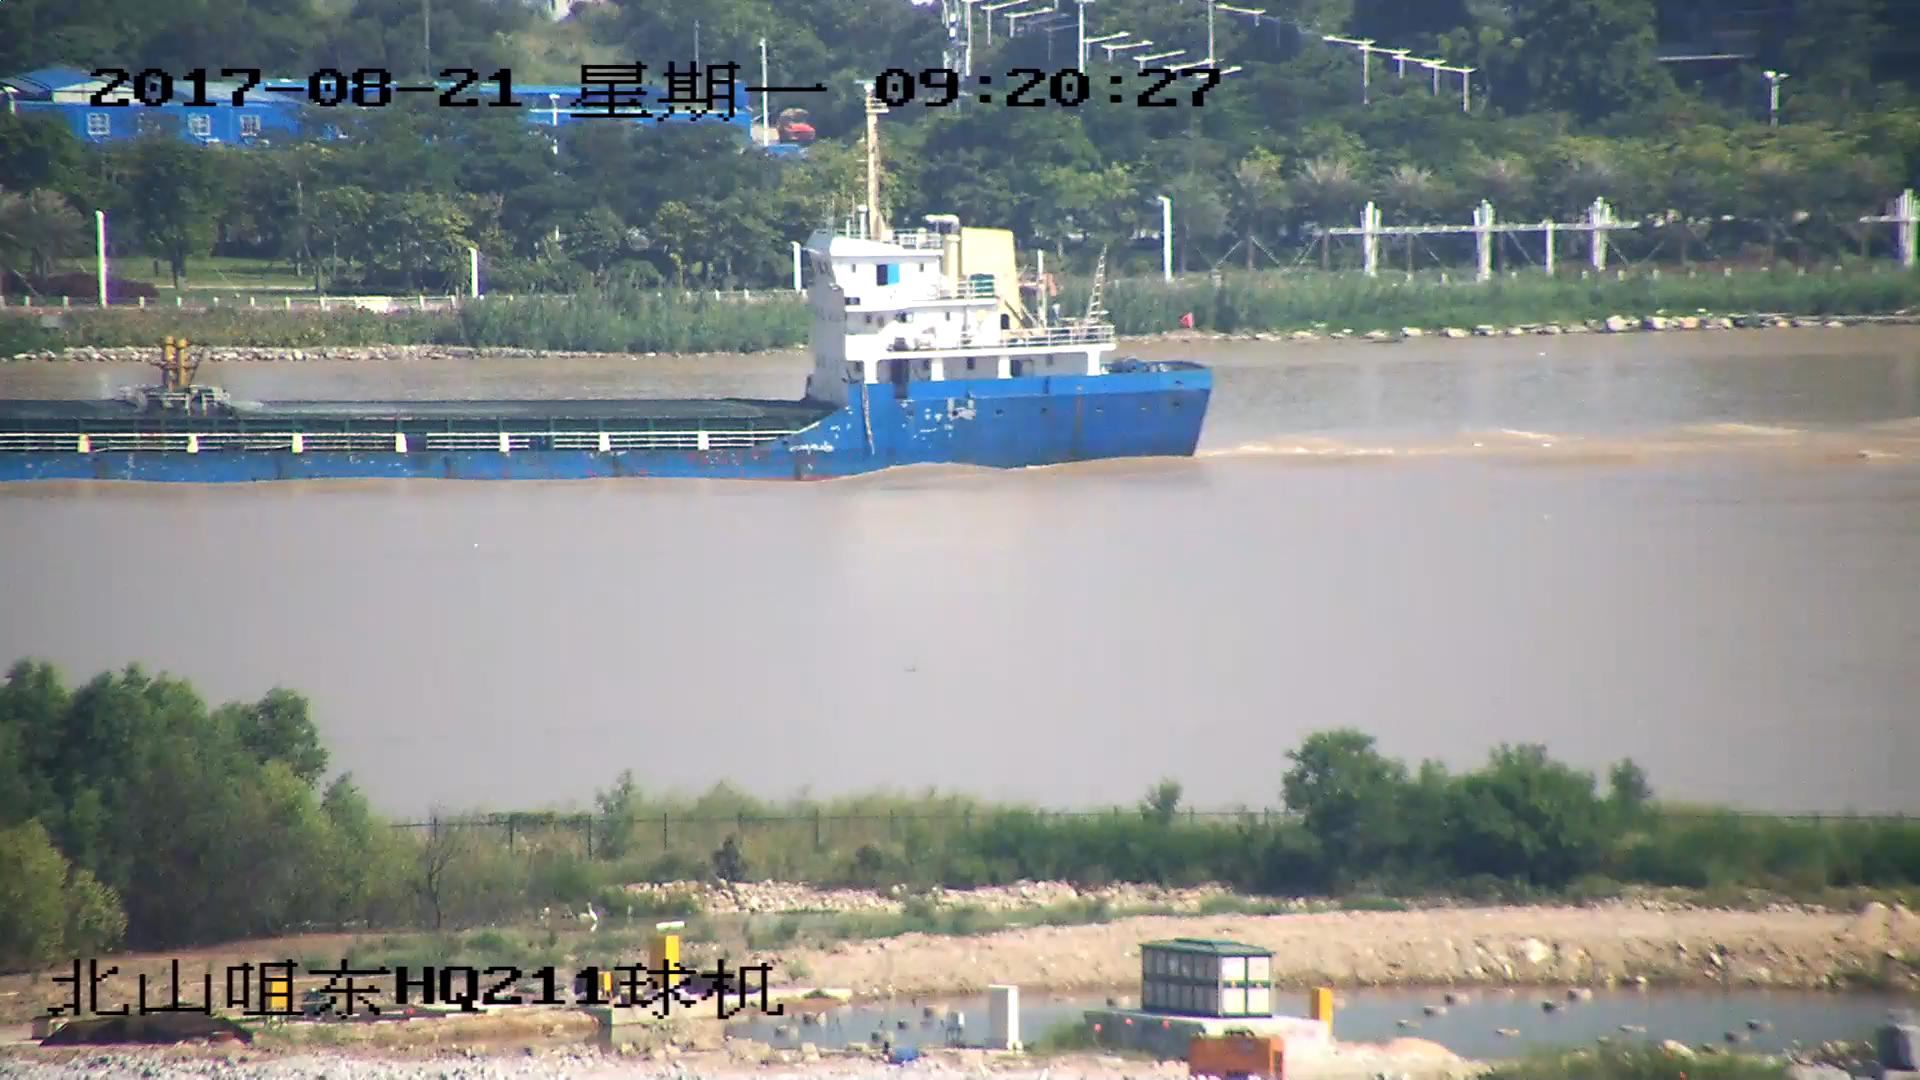general cargo ship: (1, 117, 1228, 481)
